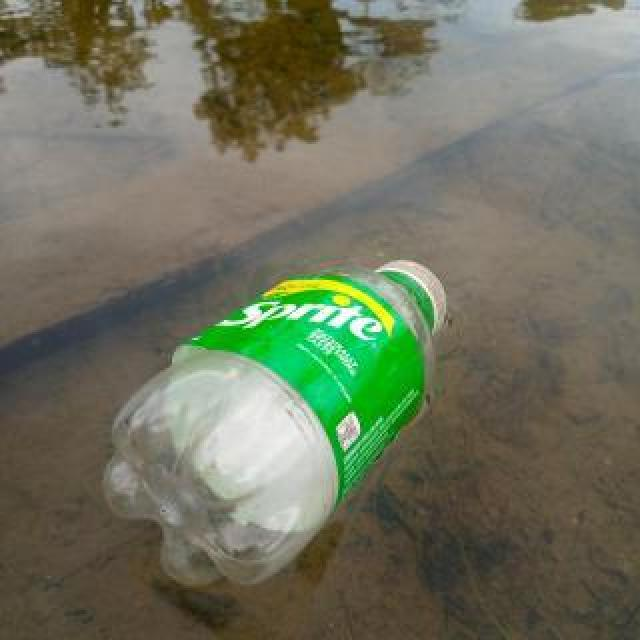bottle: (97, 256, 451, 594)
